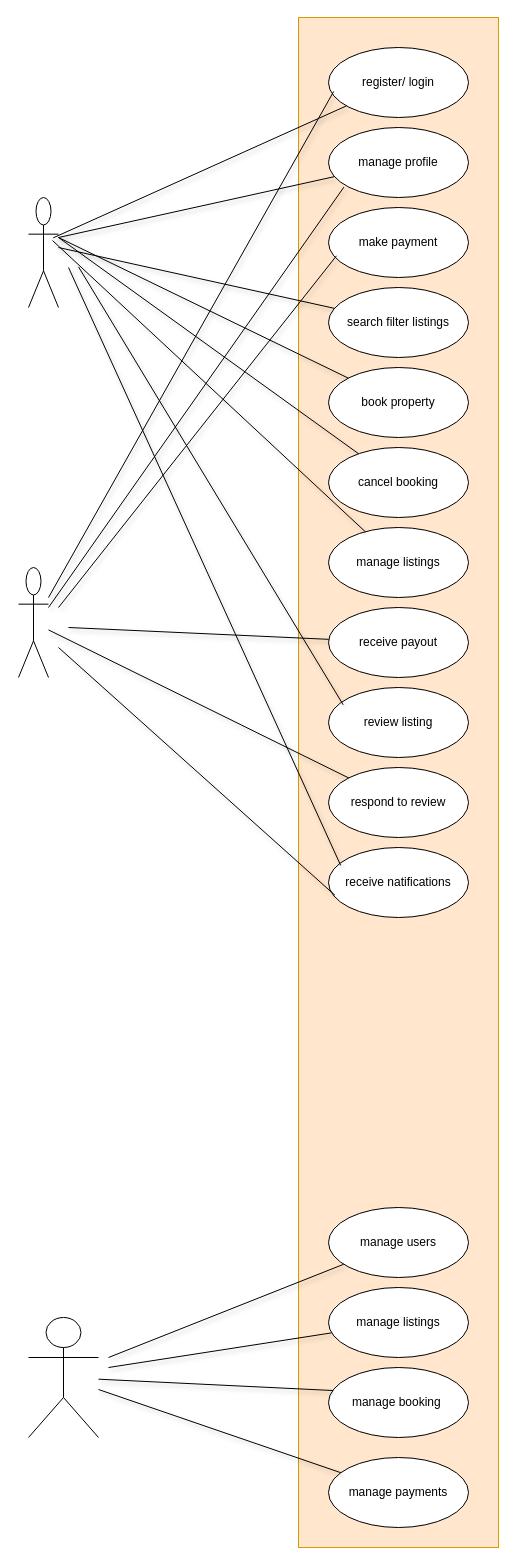
Image size: 516x1565. Some labels were removed from this diagram. The centre of each missing label's shape, as x and y in pixels:
"Admin" goes at (63,1377).
"Guest" goes at (43,252).
"Host" goes at (33,622).
